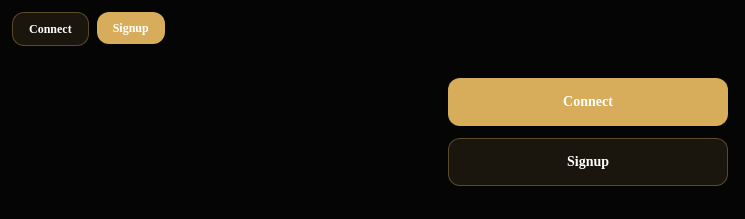
it: landing inline wallet actions › stays on the landing page after Signature rejected
Step 1. Click the 1st button "Connect" → coordinates (50, 29), box [12,12,89,46]
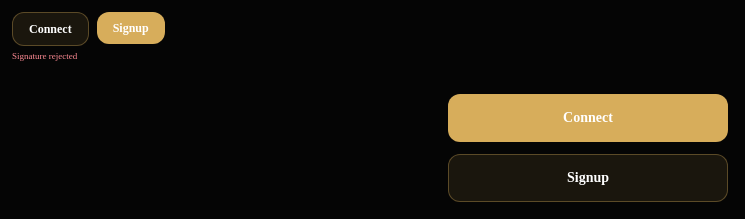
Expected: the number of buttons "Connect" is 2, [12,12,89,46]; [448,94,728,142]
Now the message reads "Signature rejected", box [12,51,77,61]
